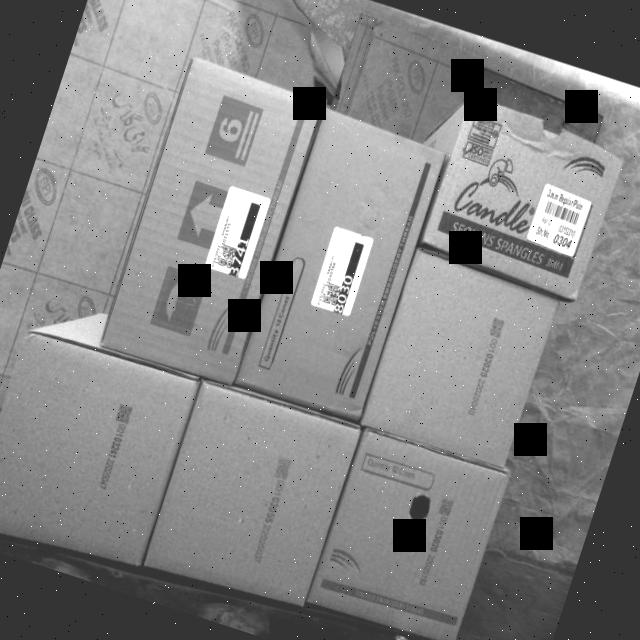box: (95, 51, 325, 388), (236, 106, 450, 424), (140, 377, 364, 616), (0, 323, 202, 586), (357, 248, 562, 474), (305, 429, 510, 640), (422, 92, 630, 298)
